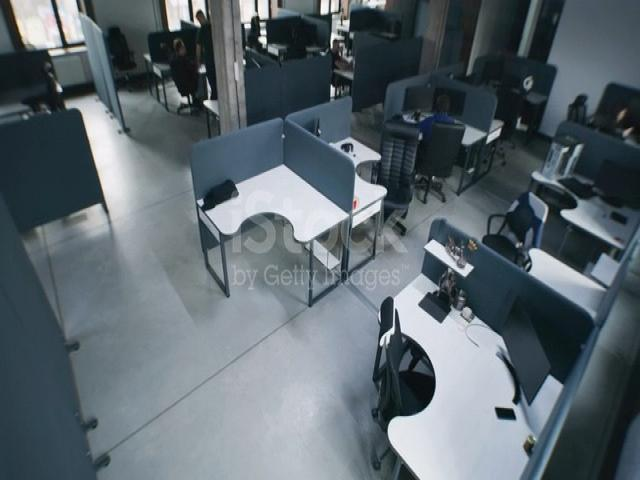EMPTY_CHAIR: (363, 283, 451, 480), (484, 176, 559, 275), (378, 115, 417, 244), (103, 1, 141, 103), (485, 74, 517, 168), (30, 35, 70, 110)
PERSON_IN_CHAIR: (417, 67, 468, 207), (157, 23, 211, 126), (318, 23, 368, 109), (564, 90, 608, 130)
